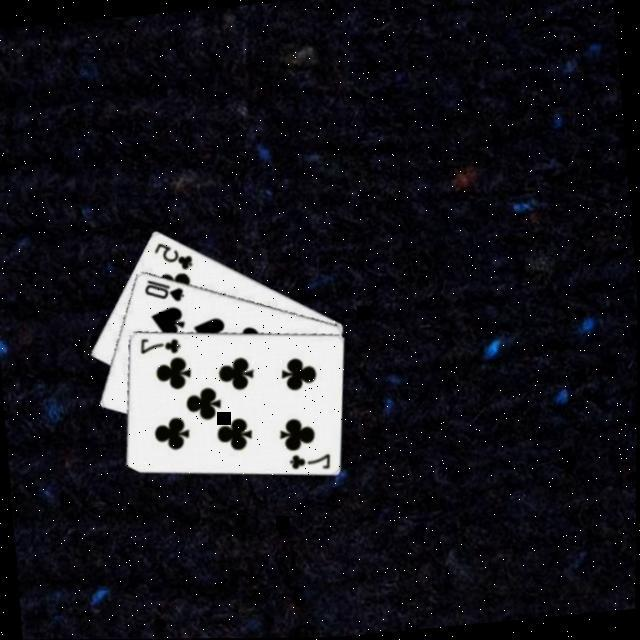10S: (143, 273, 189, 307)
5C: (152, 237, 198, 276)
7C: (288, 448, 336, 476), (137, 332, 185, 359)
